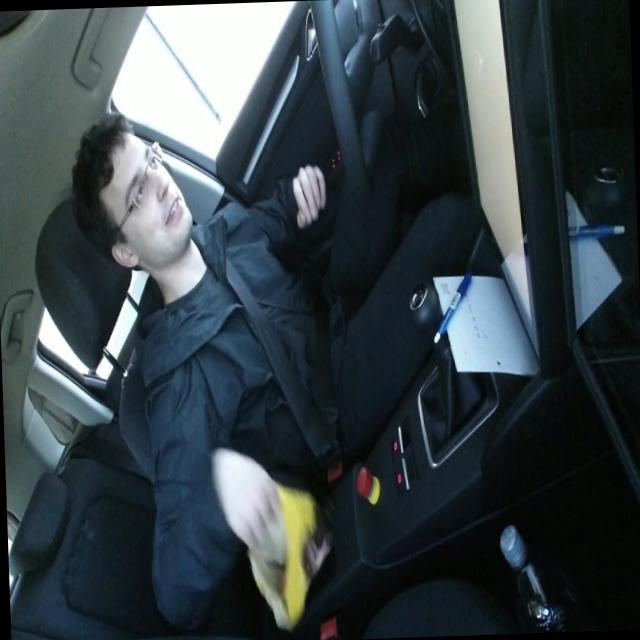pen: (429, 268, 474, 344)
